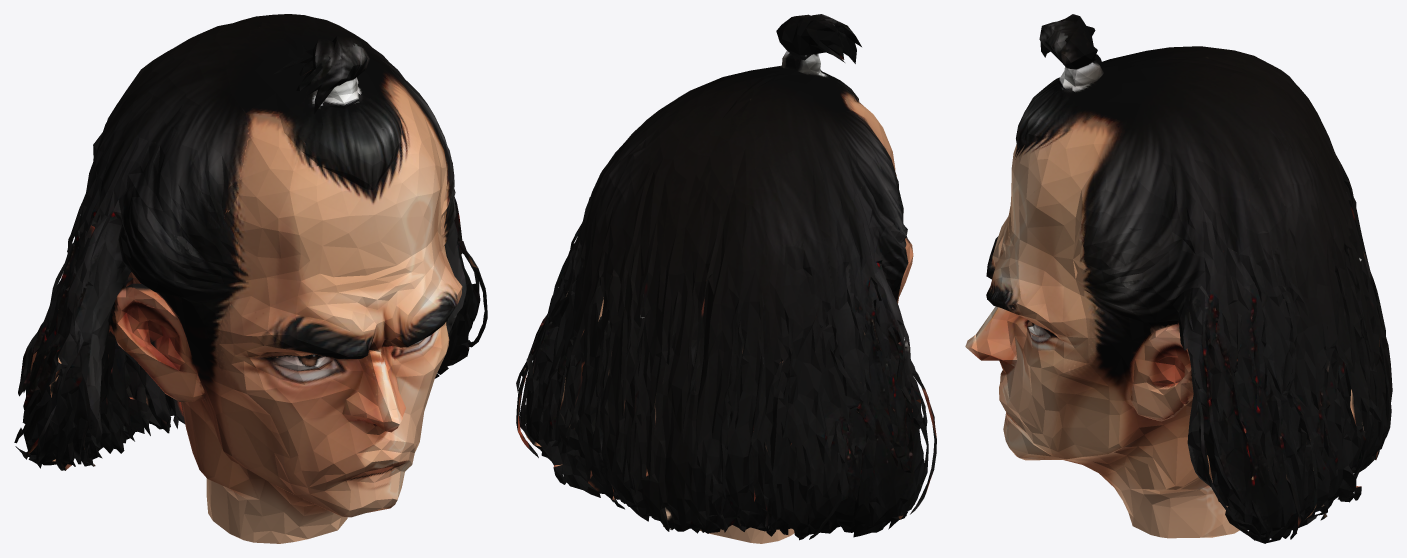
Rendered from side_haku_repaired_atlas.glb.
3 renders of one model, left to right at view 1: azimuth 30°, elevation 25°; view 2: azimuth 150°, elevation 25°; view 3: azimuth 270°, elevation 25°, orthographic. The views are drawn at different scales.
Parts seen in each view (by area): view 1: temp_mesh.ply; view 2: temp_mesh.ply; view 3: temp_mesh.ply.
Part boxes in pixels (x1,y1,x2,y2): temp_mesh.ply: (14, 14, 487, 543); temp_mesh.ply: (516, 14, 936, 543); temp_mesh.ply: (965, 14, 1392, 543).
Size of the model in its own units: 1.79 by 1.97 by 1.56.
1 material, 1 textured.
